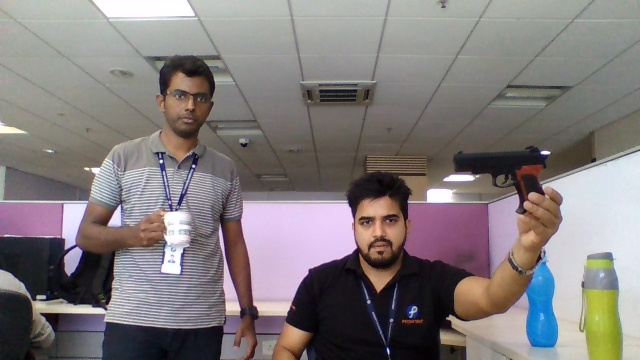gun: (453, 147, 544, 186)
